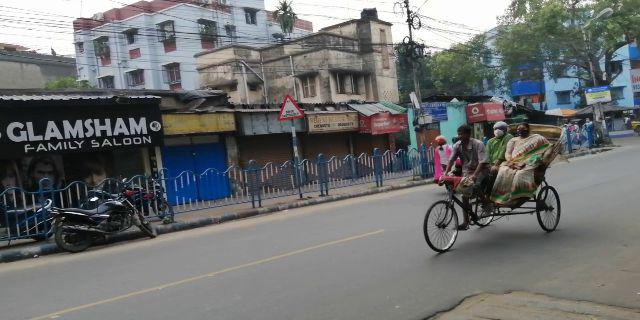Motorbike: (51, 193, 160, 248)
Rickshaw: (419, 118, 573, 253)
